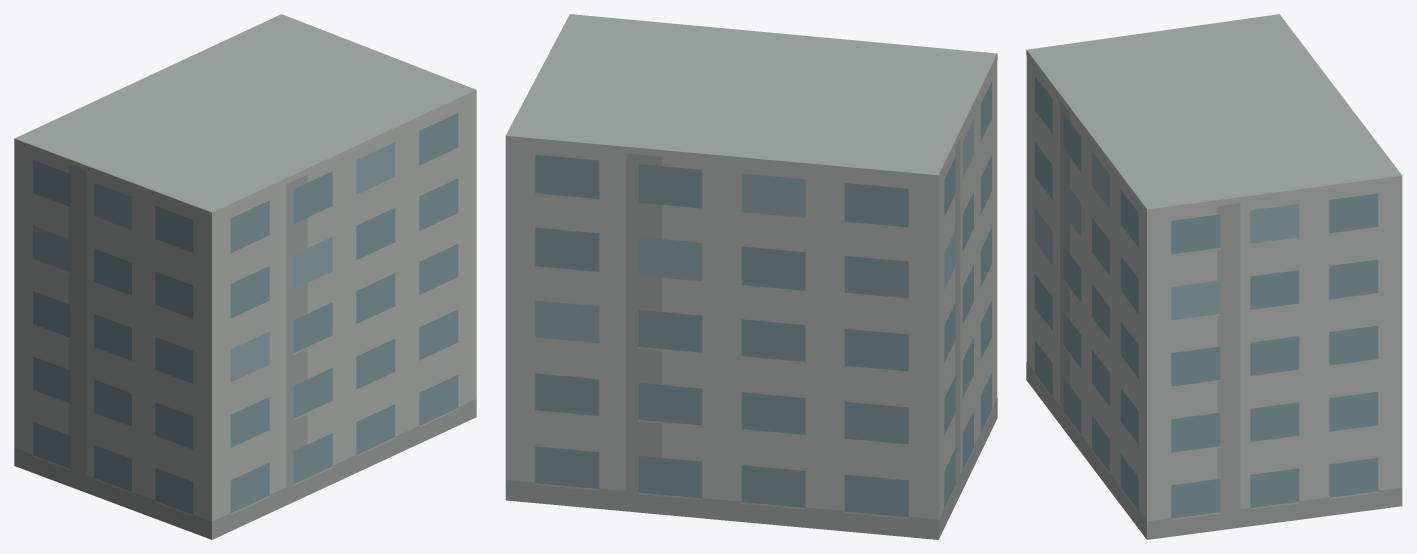
The model's file is survey-upis-32727504.glb.
The picture shows the model from 3 angles, left to right: view 1: azimuth 30°, elevation 25°; view 2: azimuth 150°, elevation 25°; view 3: azimuth 270°, elevation 25°; orthographic projection. The views are drawn at different scales.
Visible parts, largest first — view 1: survey-upis-32727504.tmp; view 2: survey-upis-32727504.tmp; view 3: survey-upis-32727504.tmp.
Boxes of the visible parts, <box> form: survey-upis-32727504.tmp: <box>14,14,476,539</box>; survey-upis-32727504.tmp: <box>505,14,997,539</box>; survey-upis-32727504.tmp: <box>1026,14,1402,539</box>.
Size of the model in its own units: 16.88 by 13.3 by 13.72.
